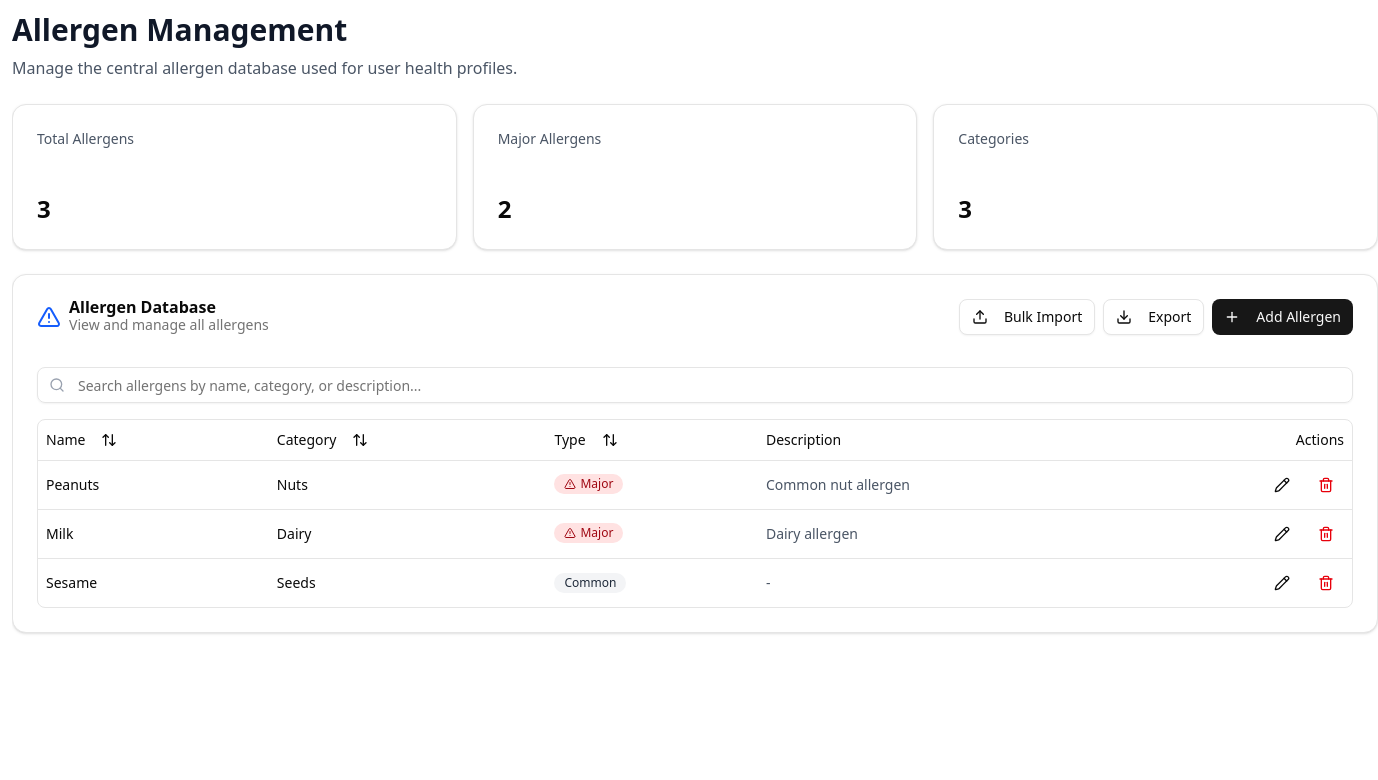
Test: AllergenManagement › filters allergens by category
expect the text "Milk" is shown: met, box [46, 524, 73, 542]
Type "Dairy" into the field with placeholder "Search allergens by name, category, or description..." at (695, 385), box [37, 367, 1353, 403]
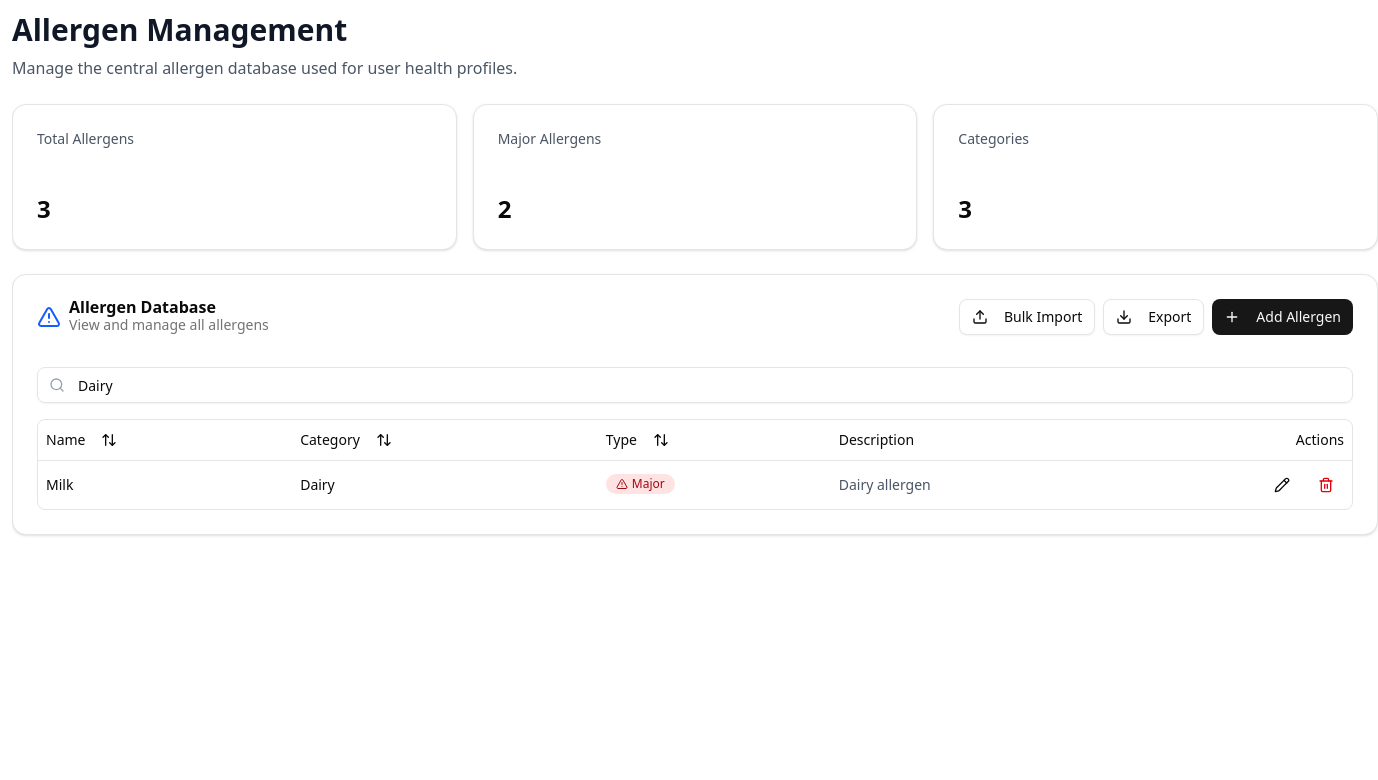
expect the text "Milk" is shown: met, box [46, 474, 73, 494]
expect the text "Peanuts" is gone: met
expect the text "Sesame" is gone: met
